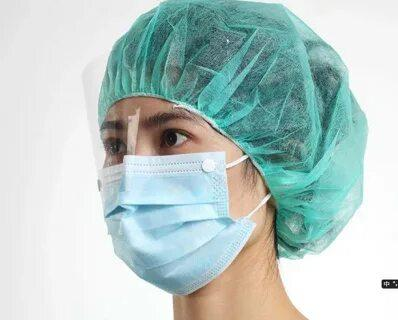hairnet: (81, 0, 372, 244)
mask: (73, 151, 270, 290)
